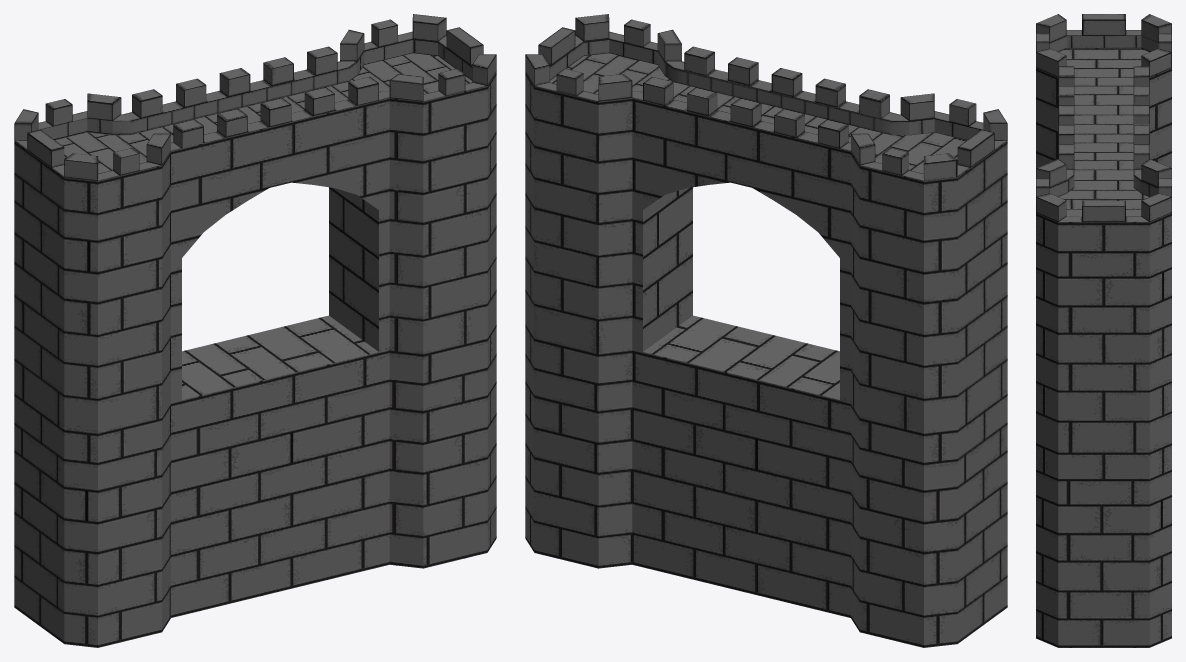
The model's file is castleGate.fbx.
3 renders of one model, left to right at view 1: azimuth 30°, elevation 25°; view 2: azimuth 150°, elevation 25°; view 3: azimuth 270°, elevation 25°, orthographic. The views are drawn at different scales.
Visible parts, largest first — view 1: gate1; view 2: gate1; view 3: gate1.
Part boxes in pixels (bbox=[...]): gate1: bbox=[14, 14, 496, 647]; gate1: bbox=[525, 14, 1007, 647]; gate1: bbox=[1036, 14, 1171, 647].
Size of the model in its own units: 1121 by 1201 by 335.
1 material, 1 textured.
